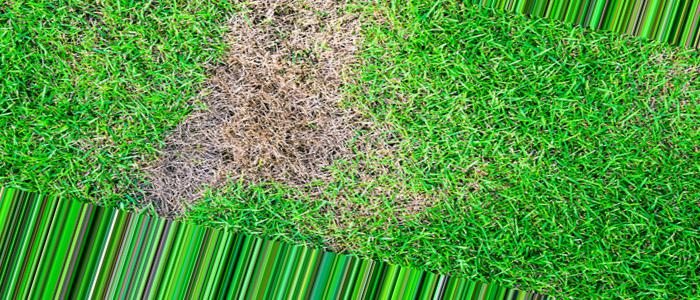patch: (118, 158, 271, 202), (200, 92, 331, 140), (251, 15, 357, 70), (629, 47, 700, 116), (290, 144, 377, 196), (401, 176, 476, 219), (470, 151, 493, 184)
